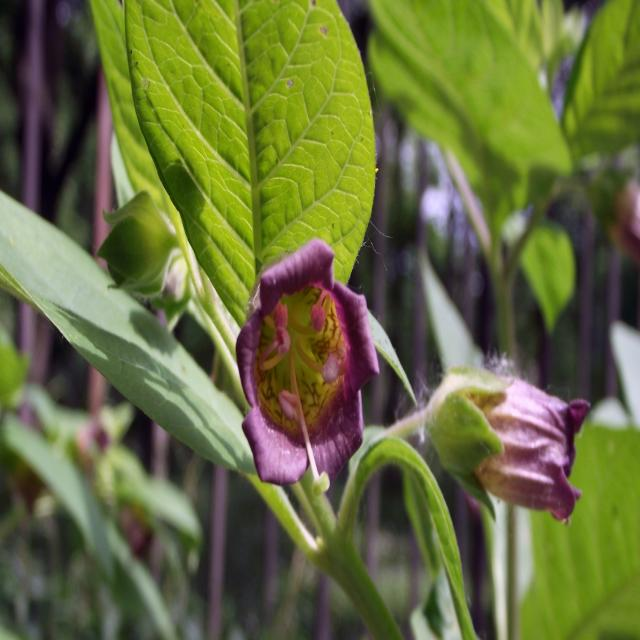Poisonous-Deadly_Nightshade: (95, 2, 448, 326), (403, 354, 606, 557), (228, 252, 384, 499)
